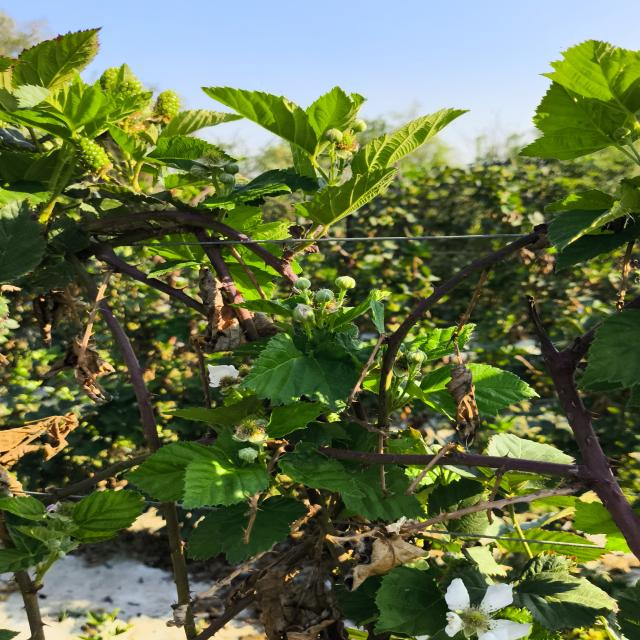boton: (293, 304, 314, 322), (238, 447, 258, 461), (324, 128, 343, 142), (335, 276, 355, 289), (315, 289, 333, 303), (294, 278, 311, 290), (353, 119, 367, 132)
